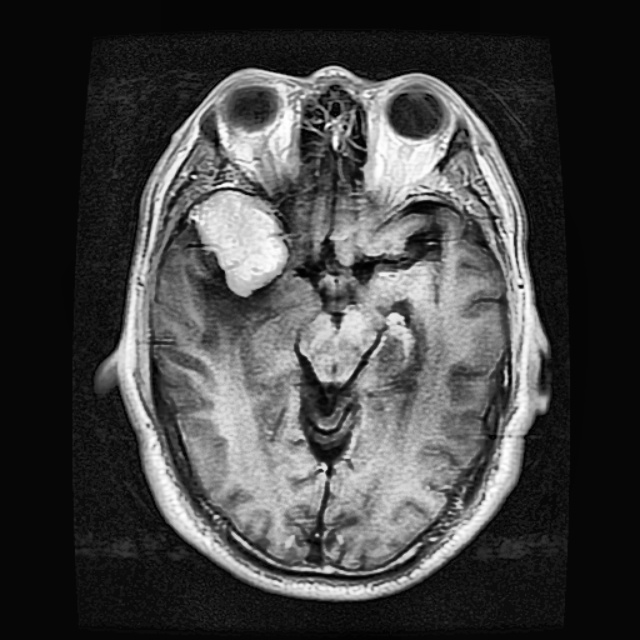Glioma: (190, 185, 288, 297)
